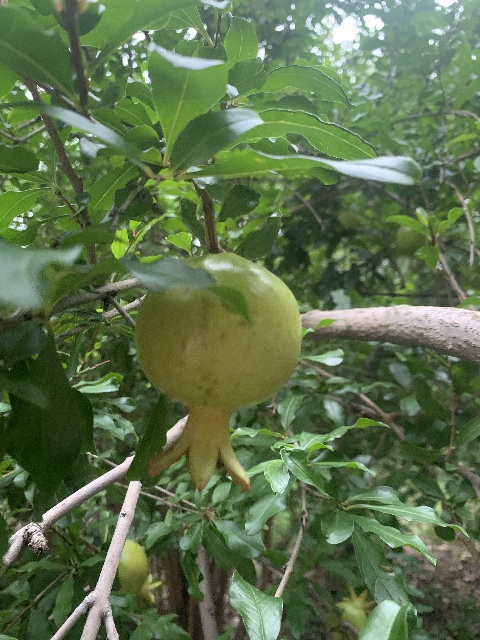mid-growth: (133, 251, 303, 494), (115, 539, 163, 604)
